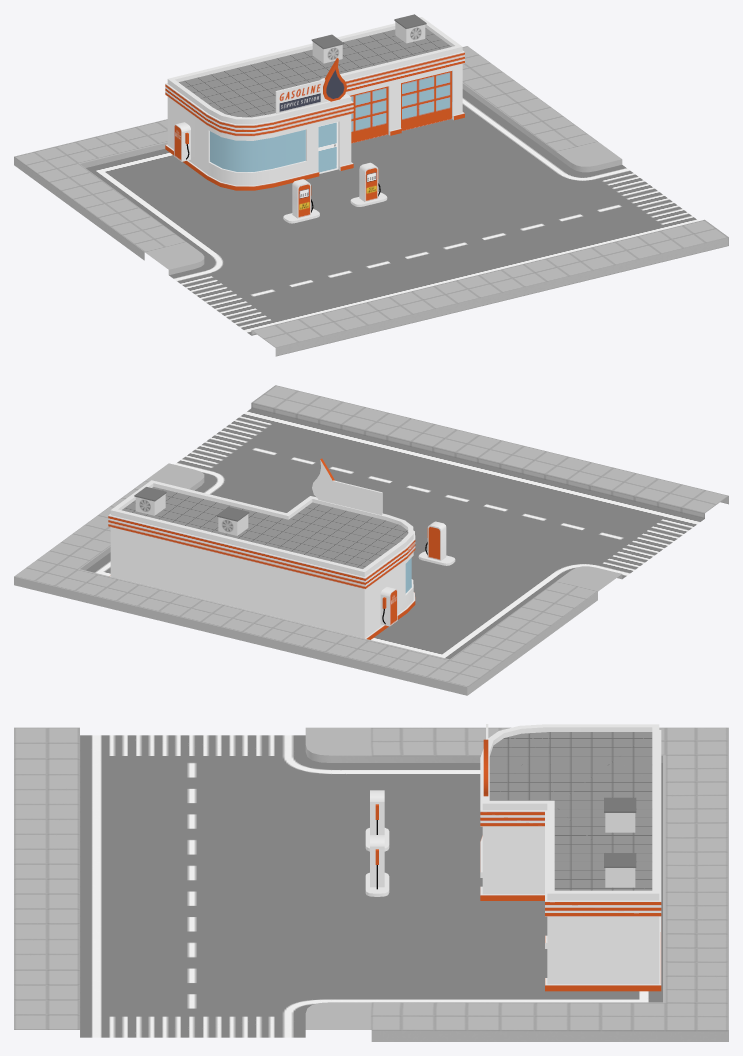
The model's file is Gasoline.glb.
3 renders of one model, top to bottom at view 1: azimuth 30°, elevation 25°; view 2: azimuth 150°, elevation 25°; view 3: azimuth 270°, elevation 25°, orthographic. The views are drawn at different scales.
Visible parts, largest first — view 1: Box142; view 2: Box142; view 3: Box142.
Part boxes in pixels (bbox=[...]): Box142: bbox=[14, 14, 728, 356]; Box142: bbox=[14, 385, 728, 695]; Box142: bbox=[14, 724, 728, 1041].
Size of the model in its own units: 12 by 2.9 by 11.99.
Materials: 1 (1 with a texture image).
